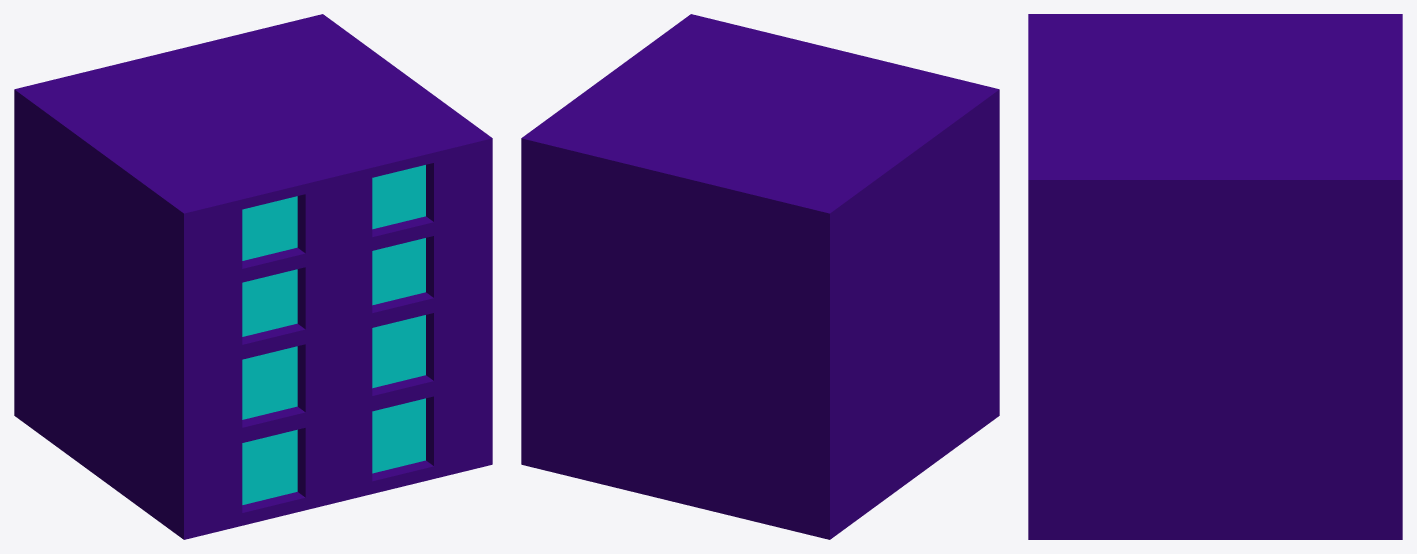
3 views of the same model, side by side, from view 1: azimuth 30°, elevation 25°; view 2: azimuth 150°, elevation 25°; view 3: azimuth 270°, elevation 25° (orthographic). The views are drawn at different scales.
Visible parts, largest first — view 1: B_10; view 2: B_10; view 3: B_10.
Boxes of the visible parts, <box> form: B_10: <box>14,14,492,539</box>; B_10: <box>521,14,999,539</box>; B_10: <box>1028,14,1402,539</box>.
Bounding box in the file's own units: 315 × 318 × 300.
